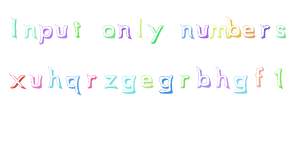1: (269, 62, 289, 93)
I: (6, 12, 28, 42)
b: (193, 60, 214, 96), (225, 12, 242, 42)
e: (137, 67, 156, 92), (241, 18, 257, 43)
f: (249, 59, 269, 91)
g: (117, 69, 139, 98), (230, 68, 251, 97), (155, 71, 177, 98)
h: (45, 61, 66, 94), (212, 61, 232, 92)
l: (132, 11, 148, 42)
m: (208, 21, 228, 43)
n: (176, 19, 196, 44), (115, 17, 133, 44), (20, 18, 38, 40)
o: (98, 18, 118, 42)
p: (37, 18, 54, 45)
q: (62, 71, 83, 98)
r: (175, 66, 194, 91), (82, 66, 100, 92), (256, 18, 273, 43)
s: (272, 17, 291, 42)
t: (70, 17, 84, 40)
u: (26, 67, 46, 93), (192, 17, 211, 40), (53, 18, 71, 42)
x: (4, 66, 28, 95)
y: (146, 20, 166, 46)
z: (100, 67, 119, 92)
